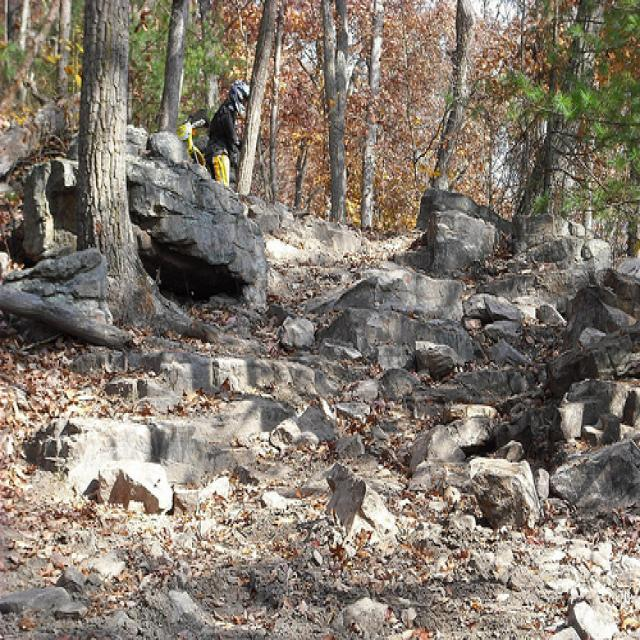person: (209, 78, 255, 187)
